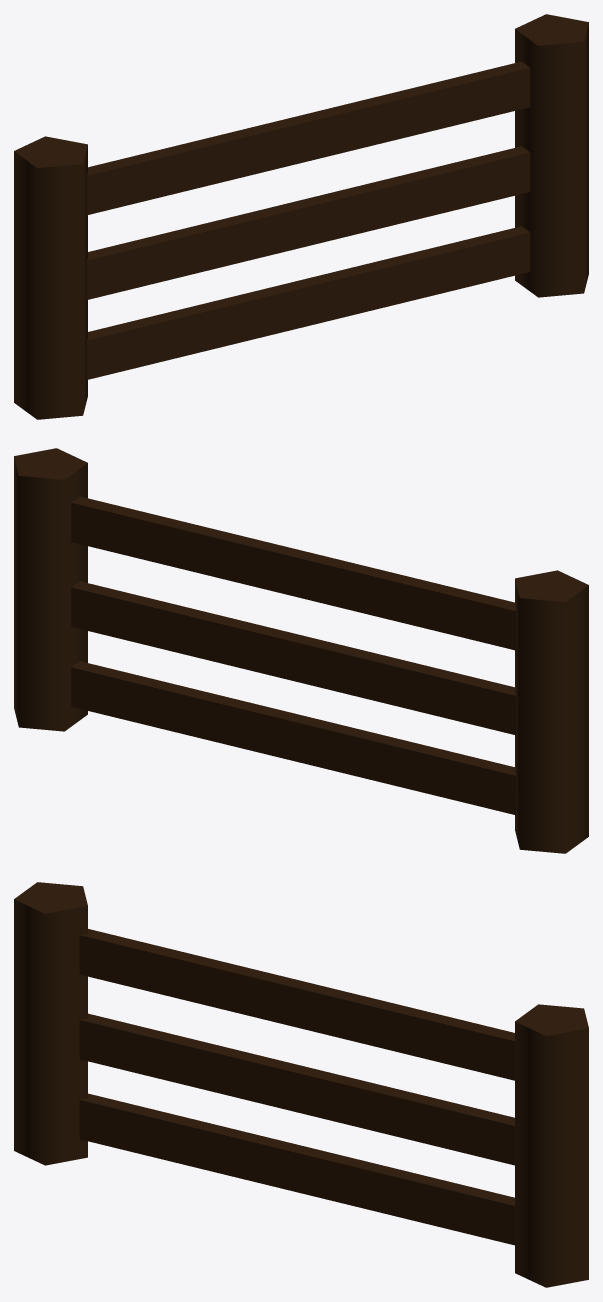
File: Fence.FBX
3 renders of one model, top to bottom at view 1: azimuth 30°, elevation 25°; view 2: azimuth 150°, elevation 25°; view 3: azimuth 330°, elevation 25°, orthographic.
Visible parts, largest first — view 1: Fence; view 2: Fence; view 3: Fence.
Boxes of the visible parts, left/top/right/bottom form: Fence: left=14, top=14, right=588, bottom=419; Fence: left=14, top=448, right=588, bottom=853; Fence: left=14, top=882, right=588, bottom=1287.
Size of the model in its own units: 68.51 by 29.25 by 7.97.
